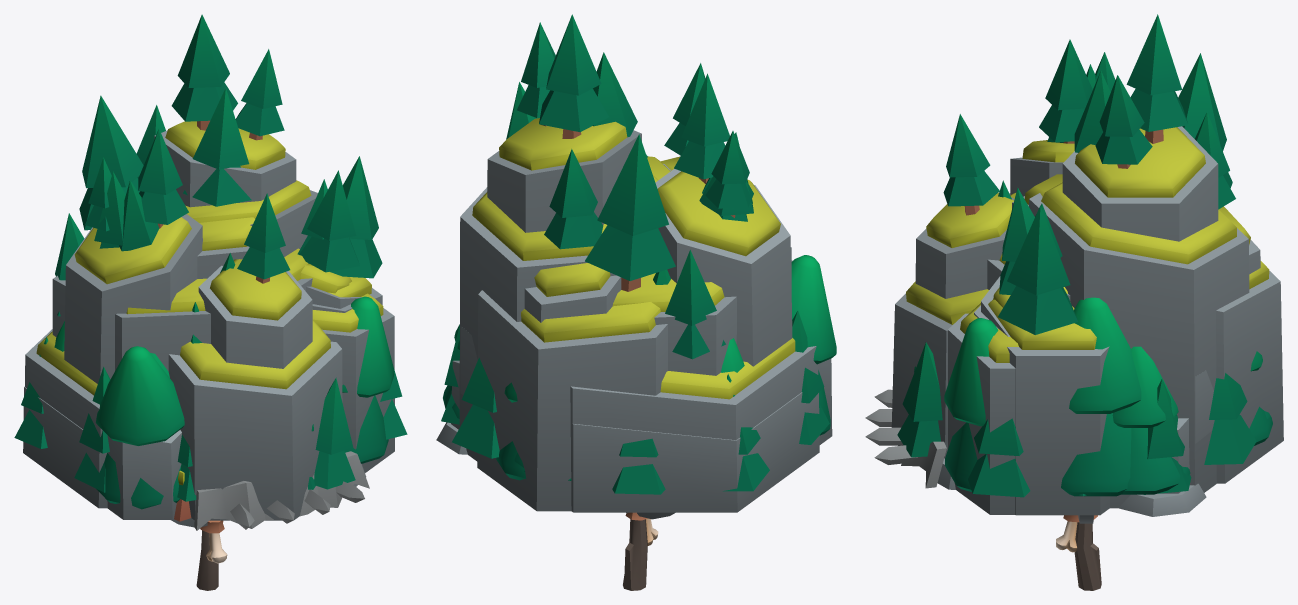
The model's file is props.glb.
3 views of the same model, side by side, from view 1: azimuth 30°, elevation 25°; view 2: azimuth 150°, elevation 25°; view 3: azimuth 270°, elevation 25° (orthographic). The views are drawn at different scales.
Parts seen in each view (by area): view 1: mountain_C_grass_trees, mountain_A_grass_trees, mountain_B_grass_trees, trees_B_large, tree_A_large, Skeleton_Crossbow, Skeleton_Staff; view 2: mountain_C_grass_trees, mountain_B_grass_trees, mountain_A_grass_trees, tree_A_large, trees_B_large, Skeleton_Staff, trees_B_medium; view 3: mountain_B_grass_trees, mountain_C_grass_trees, mountain_A_grass_trees, tree_A_large, trees_B_large, trees_B_medium, Skeleton_Crossbow, Skeleton_Staff, hills_A_trees.
Boxes of the visible parts, <box> form: mountain_C_grass_trees: <box>64,105,361,520</box>; mountain_A_grass_trees: <box>23,88,394,508</box>; mountain_B_grass_trees: <box>25,14,382,469</box>; trees_B_large: <box>54,296,394,509</box>; tree_A_large: <box>14,336,407,501</box>; Skeleton_Crossbow: <box>194,451,369,530</box>; Skeleton_Staff: <box>196,520,227,590</box>; mountain_C_grass_trees: <box>451,63,832,511</box>; mountain_B_grass_trees: <box>459,14,818,511</box>; mountain_A_grass_trees: <box>460,52,819,512</box>; tree_A_large: <box>441,310,829,494</box>; trees_B_large: <box>443,255,836,480</box>; Skeleton_Staff: <box>623,512,658,590</box>; trees_B_medium: <box>496,382,526,480</box>; mountain_B_grass_trees: <box>974,14,1249,515</box>; mountain_C_grass_trees: <box>891,39,1283,508</box>; mountain_A_grass_trees: <box>948,53,1232,514</box>; tree_A_large: <box>897,342,1256,497</box>; trees_B_large: <box>914,318,1271,494</box>; trees_B_medium: <box>1061,297,1272,496</box>; Skeleton_Crossbow: <box>865,389,946,488</box>; Skeleton_Staff: <box>1056,515,1101,590</box>; hills_A_trees: <box>937,458,1206,516</box>.
Size of the model in its own units: 1.95 by 3.35 by 2.16.
3 materials, 3 textured.
